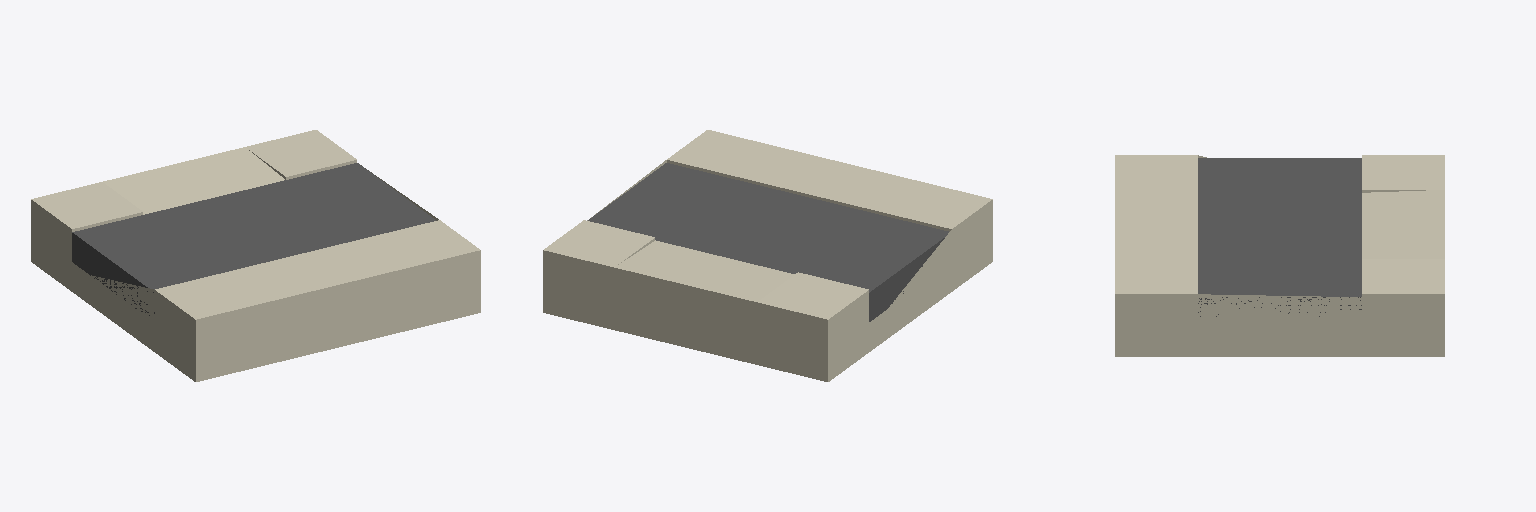
The model's file is roadTile_292.obj.
The picture shows the model from 3 angles: view 1: azimuth 30°, elevation 25°; view 2: azimuth 150°, elevation 25°; view 3: azimuth 270°, elevation 25°; orthographic projection.
Visible parts, largest first — view 1: Mesh1_Group1_Model.003; view 2: Mesh1_Group1_Model.003; view 3: Mesh1_Group1_Model.003.
Boxes of the visible parts, x1,y1,x2,y2 form: Mesh1_Group1_Model.003: [31, 130, 480, 381]; Mesh1_Group1_Model.003: [543, 130, 992, 381]; Mesh1_Group1_Model.003: [1115, 155, 1444, 356].
Size of the model in its own units: 1.12 by 0.235 by 1.12.